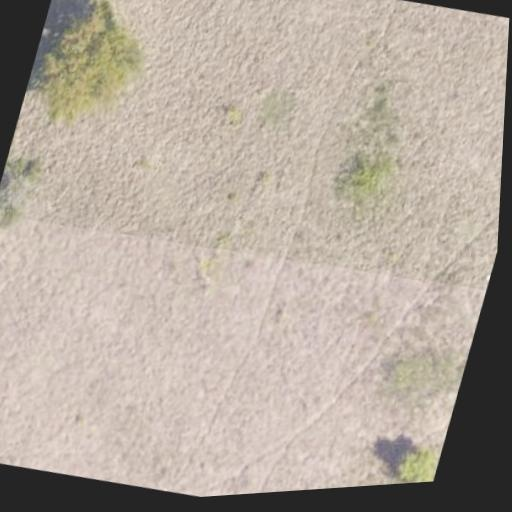tree-top: (18, 0, 163, 140), (380, 434, 444, 485), (0, 153, 39, 228)
